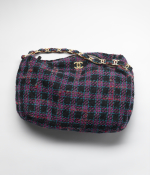channel: (15, 40, 139, 133), (70, 61, 90, 73)
